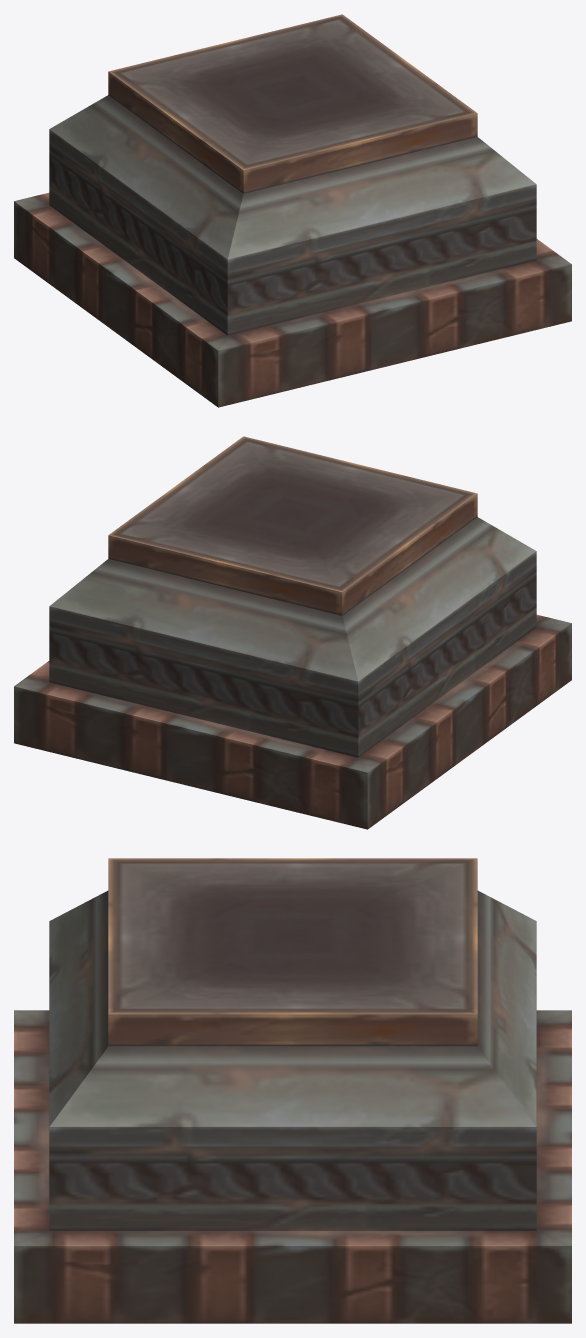
File: dengtai_01.FBX
The picture shows the model from 3 angles, top to bottom: view 1: azimuth 30°, elevation 25°; view 2: azimuth 150°, elevation 25°; view 3: azimuth 270°, elevation 25°; orthographic projection. The views are drawn at different scales.
Visible parts, largest first — view 1: zw_dentai; view 2: zw_dentai; view 3: zw_dentai.
Part boxes in pixels (x1,y1,x2,y2): zw_dentai: (14, 14, 571, 407); zw_dentai: (14, 436, 571, 829); zw_dentai: (14, 858, 571, 1323).
Size of the model in its own units: 178 by 94.66 by 178.
